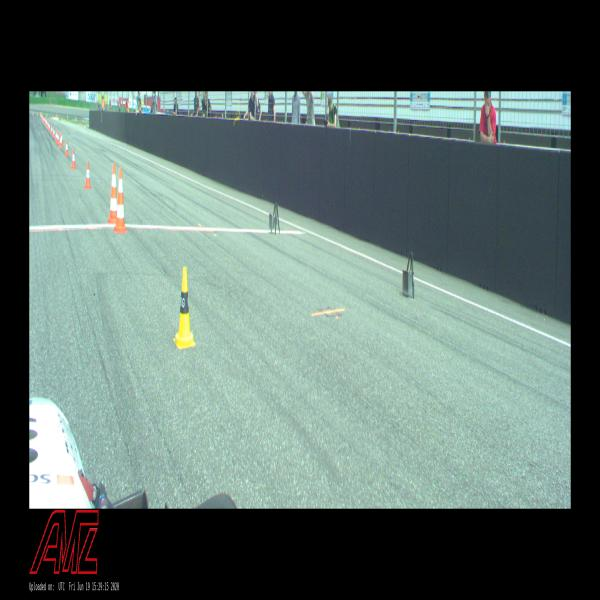large_orange_cone: (113, 166, 127, 232), (108, 163, 117, 223)
orange_cone: (84, 162, 92, 188), (71, 148, 76, 169), (64, 139, 69, 156), (59, 134, 62, 148), (53, 127, 55, 138), (57, 132, 59, 143)
yellow_cone: (173, 267, 196, 350)
